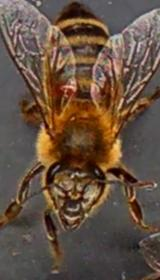varroa_mite: (50, 73, 81, 98)
